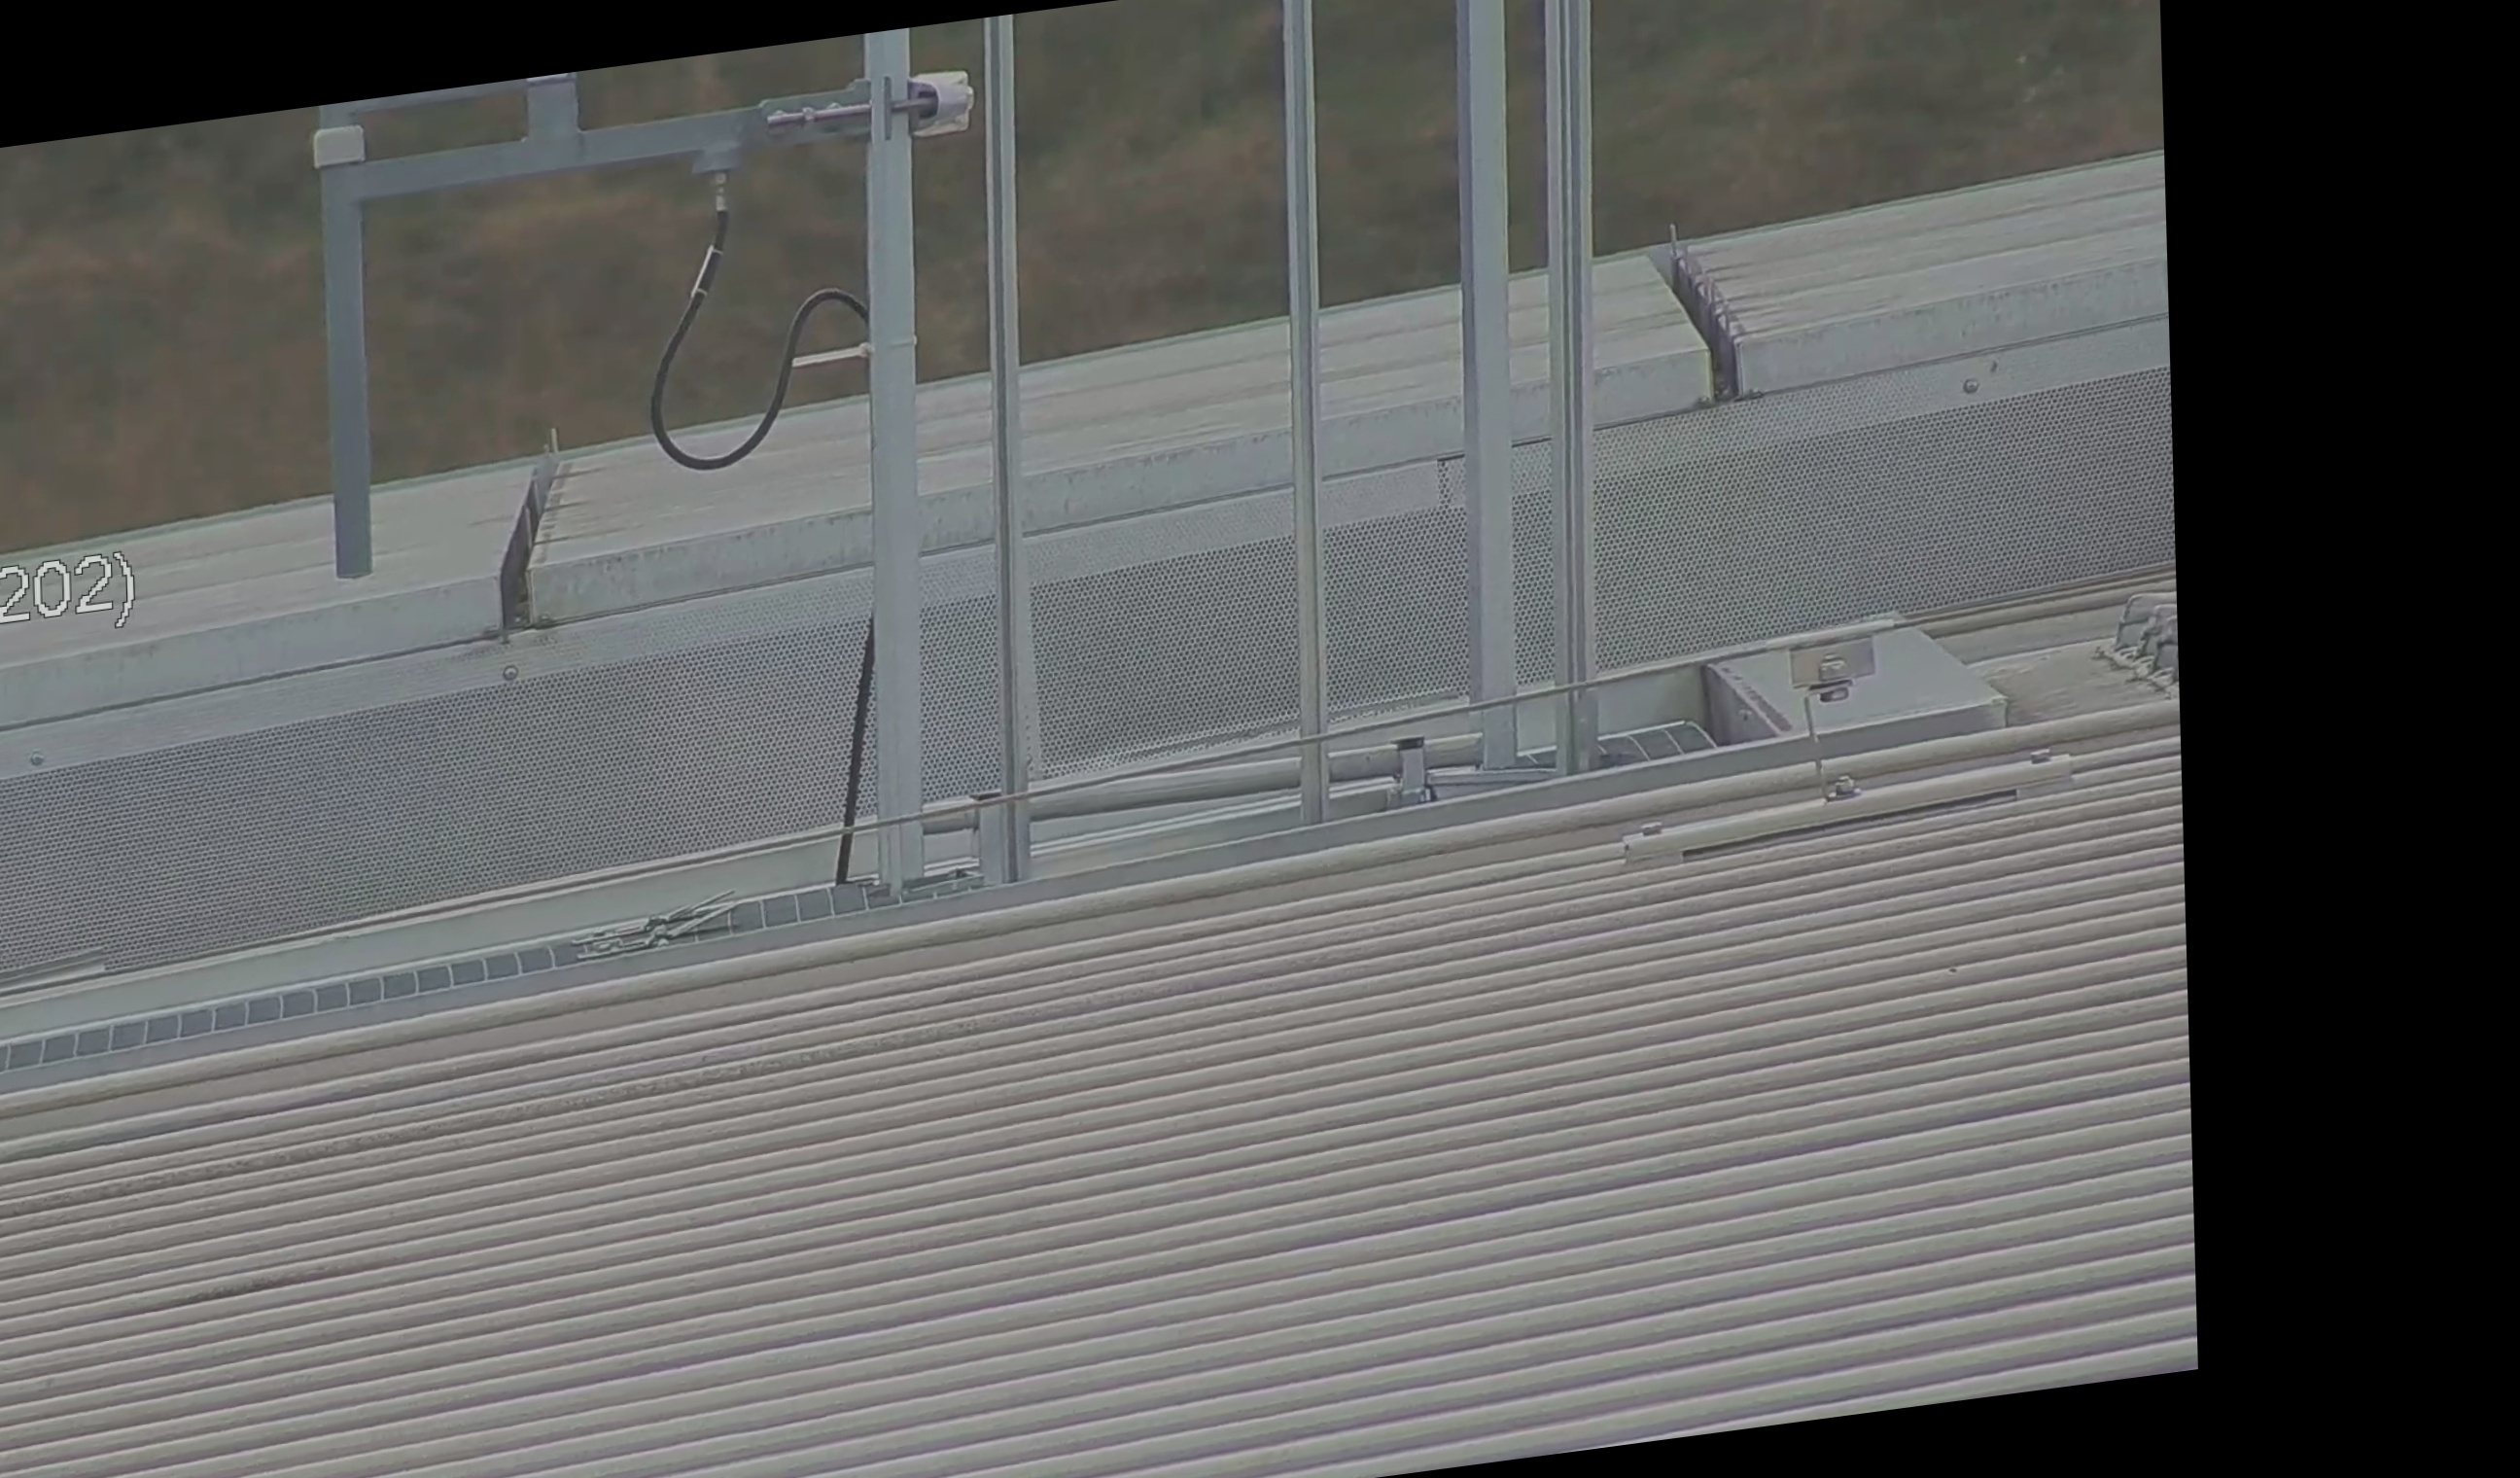Other: (1648, 192, 1778, 410)
